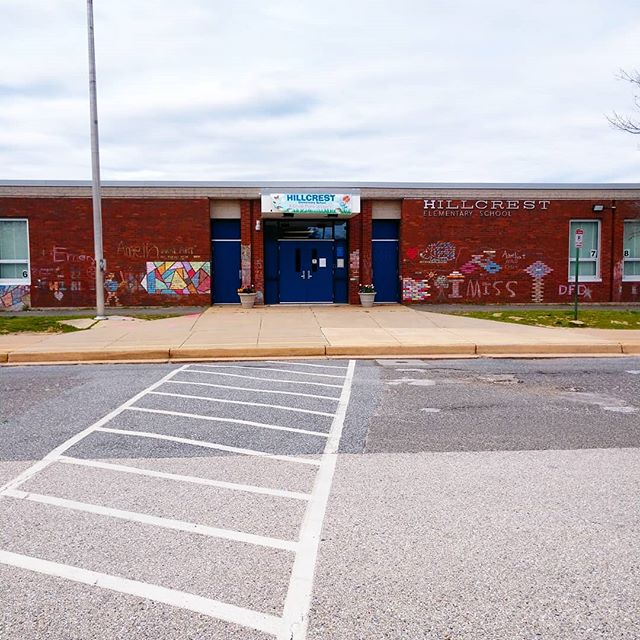building: (2, 182, 638, 308)
door: (278, 235, 339, 310)
sidewalk: (6, 310, 640, 362)
sky: (7, 1, 640, 174)
street: (1, 368, 627, 640)
